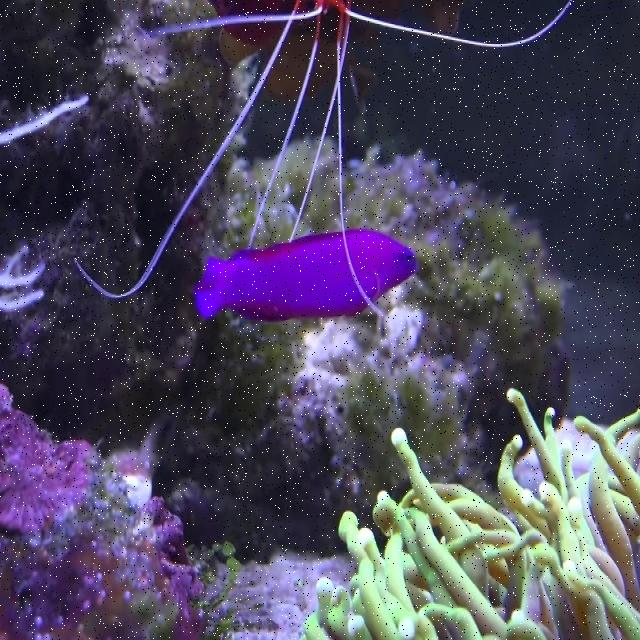fish: (200, 228, 418, 324)
reefs: (72, 0, 575, 320), (303, 390, 639, 639)
